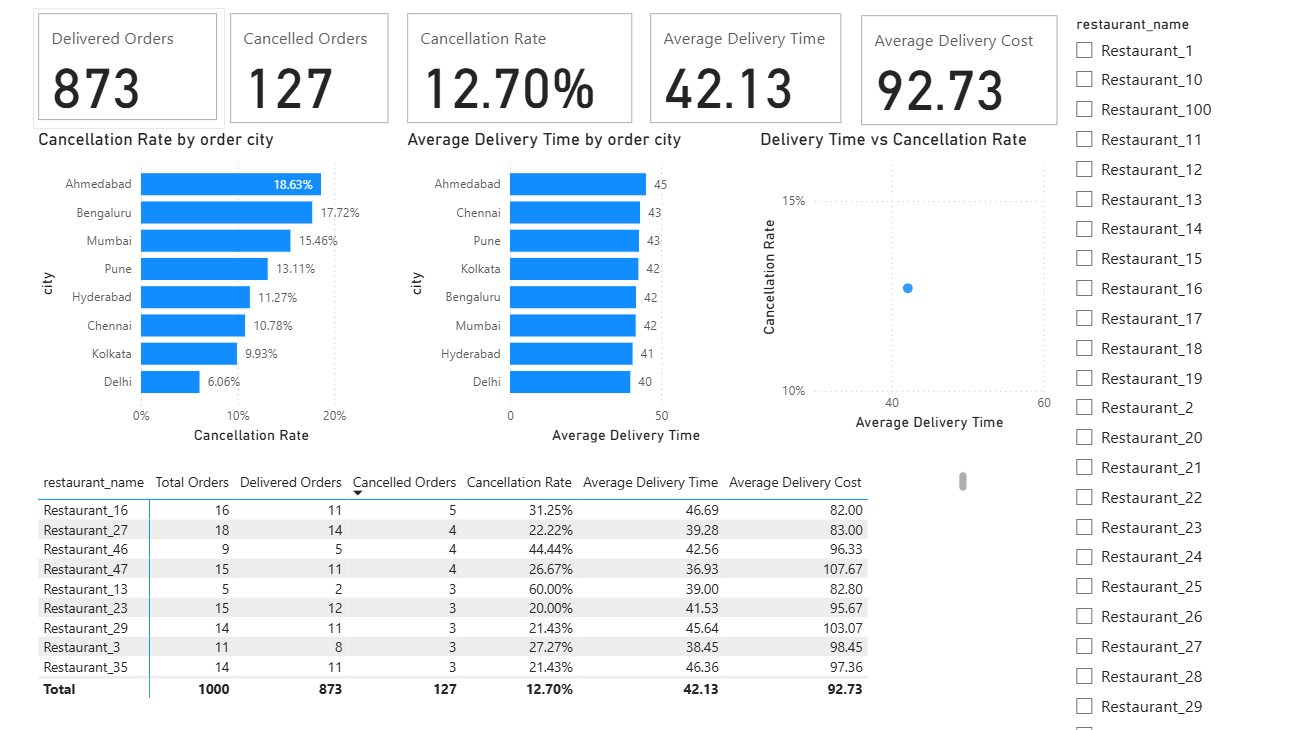

The page's visual inventory and layout, read from the dashboard file:
{"tool":"powerbi","page":{"name":"Operations Intelligence","canvas":[1280,720],"ordinal":3},"visuals":[{"type":"cardVisual","fields":{"Data":["_measures.Delivered Orders"]},"box":[36,12.6,186.7,117.7],"z":0},{"type":"cardVisual","fields":{"Data":["_measures.Cancelled Orders"]},"box":[222.7,12.6,164.4,117.7],"z":1000},{"type":"cardVisual","fields":{"Data":["_measures.Cancellation Rate"]},"box":[394.9,12.6,229.5,117.7],"z":2000},{"type":"cardVisual","fields":{"Data":["_measures.Average Delivery Time"]},"box":[631.2,12.6,196.5,117.7],"z":3000},{"type":"cardVisual","fields":{"Data":["_measures.Average Delivery Cost"]},"box":[836.5,14.6,201.3,117.7],"z":4000},{"type":"clusteredBarChart","title":"Cancellation Rate by order city","fields":{"Y":["_measures.Cancellation Rate"],"Category":["orders(1).city"]},"box":[36,130.3,337.5,310.3],"z":5000},{"type":"clusteredBarChart","title":"Average Delivery Time by order city","fields":{"Y":["_measures.Average Delivery Time"],"Category":["orders(1).city"]},"box":[394.9,130.3,343.3,310.3],"z":6000},{"type":"scatterChart","title":"Delivery Time vs Cancellation Rate","fields":{"X":["_measures.Average Delivery Time"],"Y":["_measures.Cancellation Rate"]},"box":[738.2,130.3,292.8,297.6],"z":7000},{"type":"pivotTable","fields":{"Rows":["restaurants(1).restaurant_name"],"Values":["_measures.Total Orders","_measures.Delivered Orders","_measures.Cancelled Orders","_measures.Cancellation Rate","_measures.Average Delivery Time","_measures.Average Delivery Cost"]},"box":[36,458.1,914.3,231.5],"z":8000},{"type":"slicer","fields":{"Values":["restaurants(1).restaurant_name"]},"box":[1037.8,14.6,242.2,705.2],"z":8001}]}

Visuals, with their boxes in screenshot pixels (x1, y1, x2, y2), scaled from the page's 1280x720 canvas onto the 1298x730 screenshot:
cardVisual - _measures.Delivered Orders: <bbox>37, 13, 226, 132</bbox>
cardVisual - _measures.Cancelled Orders: <bbox>226, 13, 393, 132</bbox>
cardVisual - _measures.Cancellation Rate: <bbox>400, 13, 633, 132</bbox>
cardVisual - _measures.Average Delivery Time: <bbox>640, 13, 839, 132</bbox>
cardVisual - _measures.Average Delivery Cost: <bbox>848, 15, 1052, 134</bbox>
"Cancellation Rate by order city" clusteredBarChart: <bbox>37, 132, 379, 447</bbox>
"Average Delivery Time by order city" clusteredBarChart: <bbox>400, 132, 749, 447</bbox>
"Delivery Time vs Cancellation Rate" scatterChart: <bbox>749, 132, 1045, 434</bbox>
pivotTable - restaurants(1).restaurant_name x _measures.Total Orders: <bbox>37, 464, 964, 699</bbox>
slicer - restaurants(1).restaurant_name: <bbox>1052, 15, 1297, 729</bbox>
